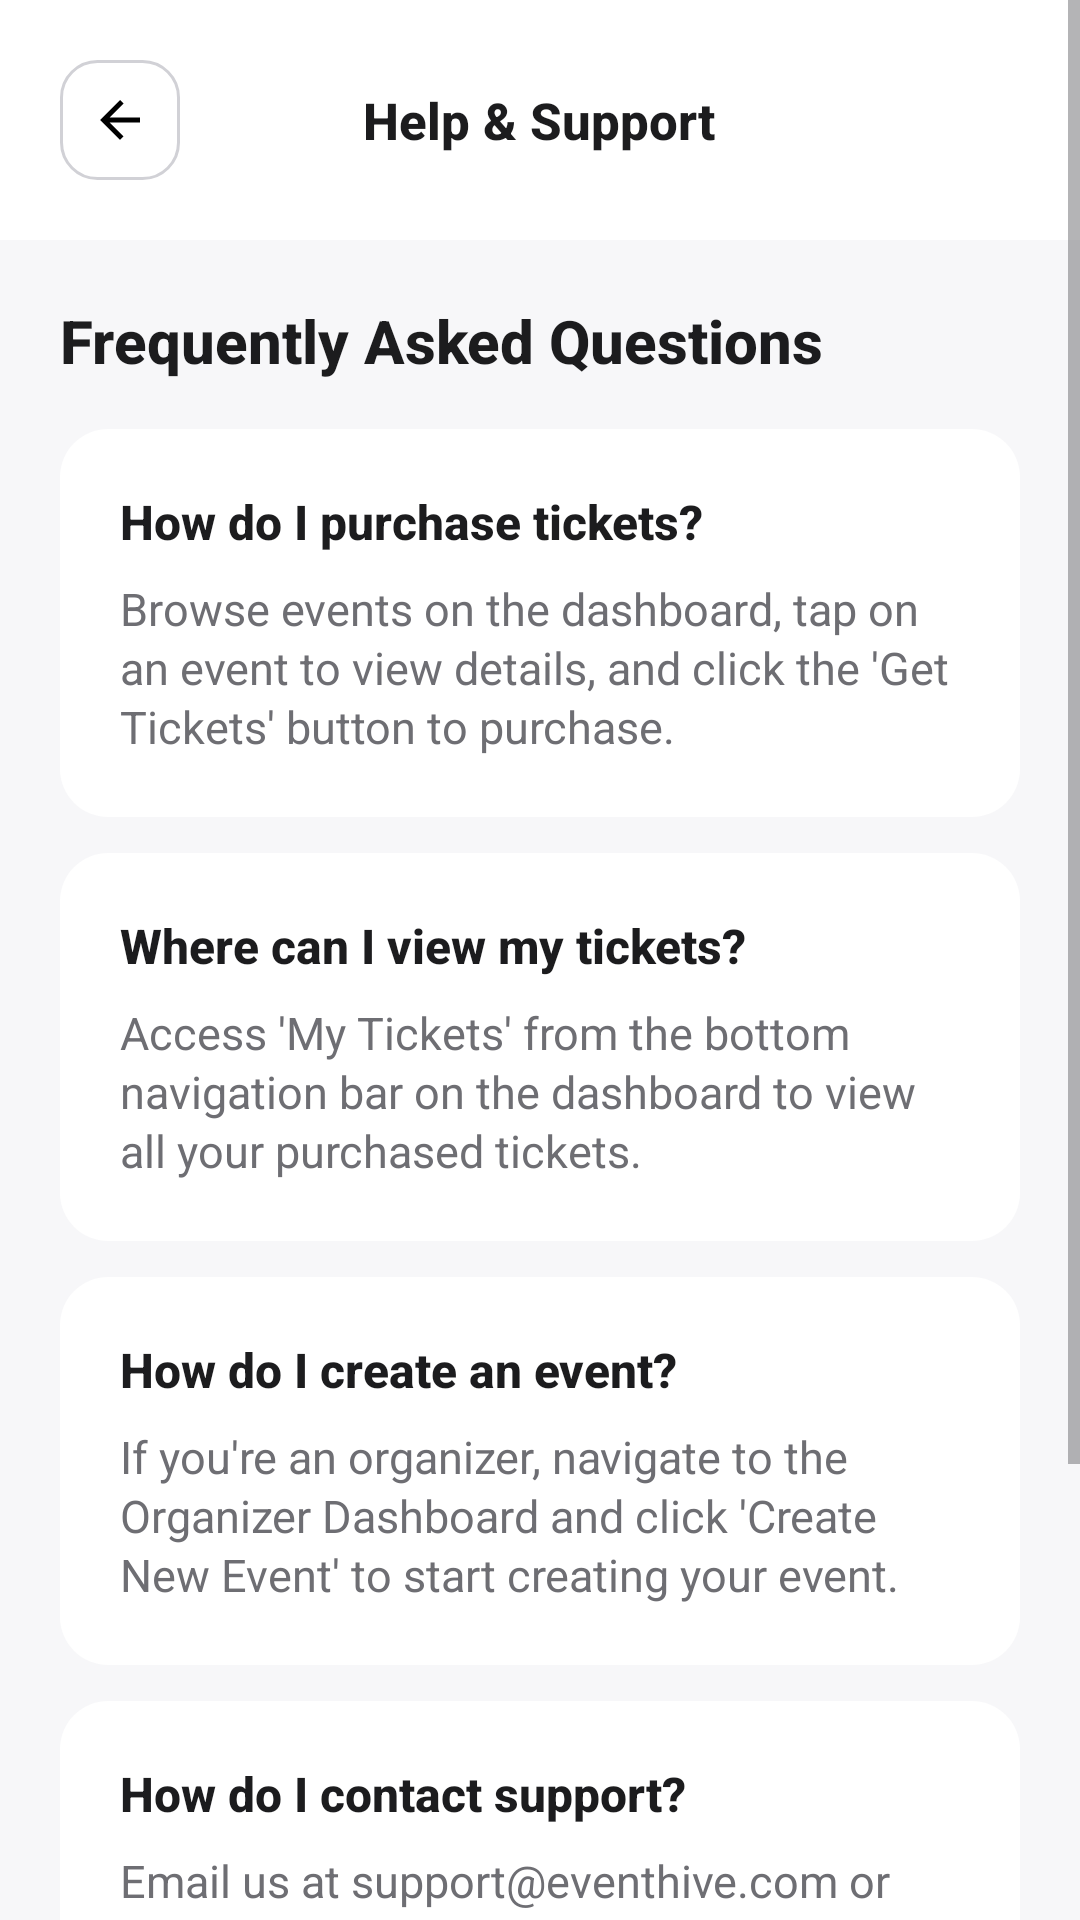

Point at icon controls on the screen. Image size 1080px x 1920px, points as (x,y).
back: (120,120)
